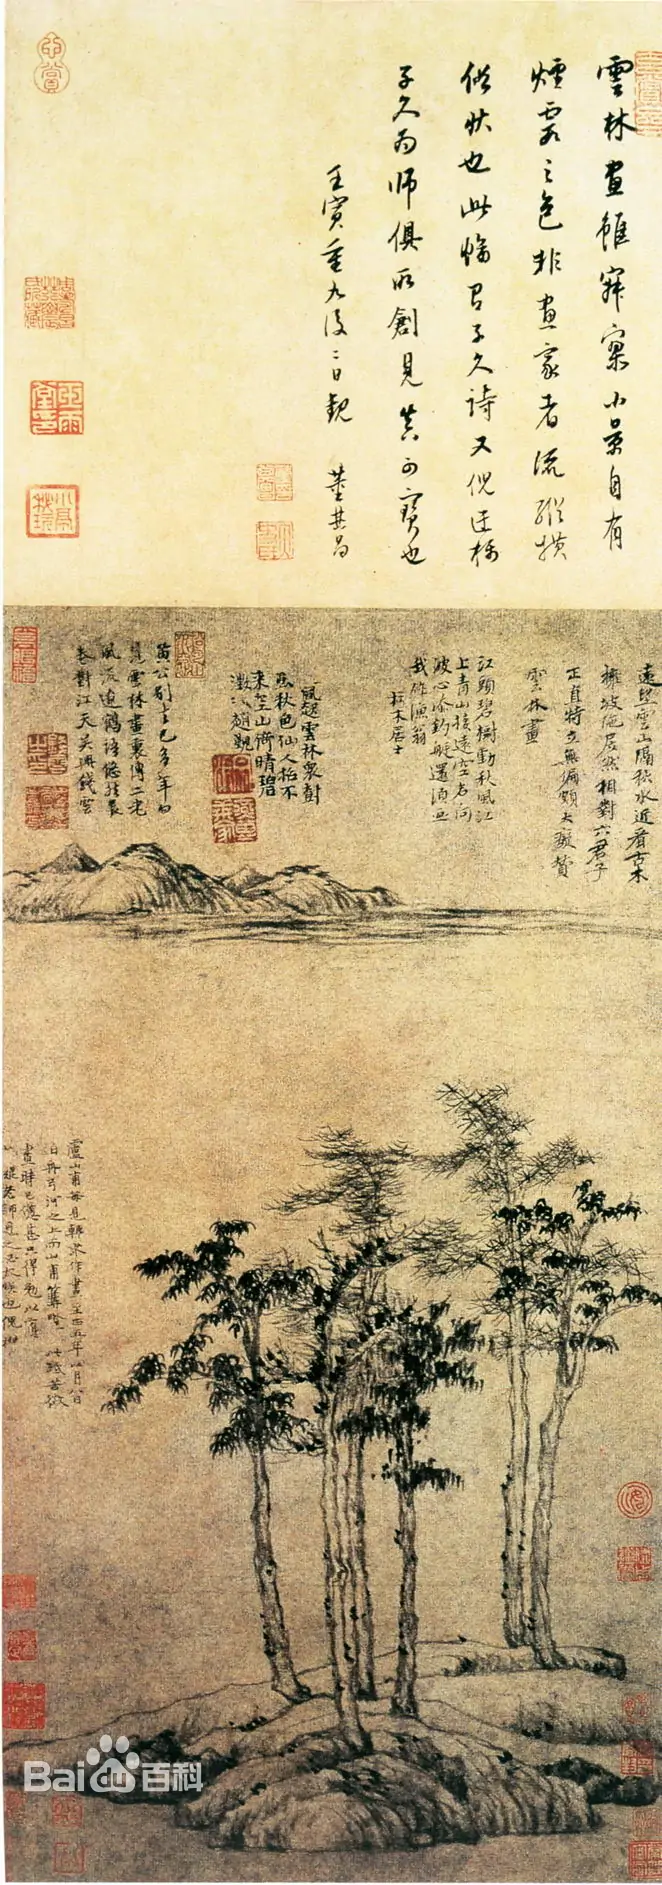hill: (7, 836, 464, 949)
rock: (186, 1741, 595, 1856)
tree: (112, 1081, 612, 1735)
